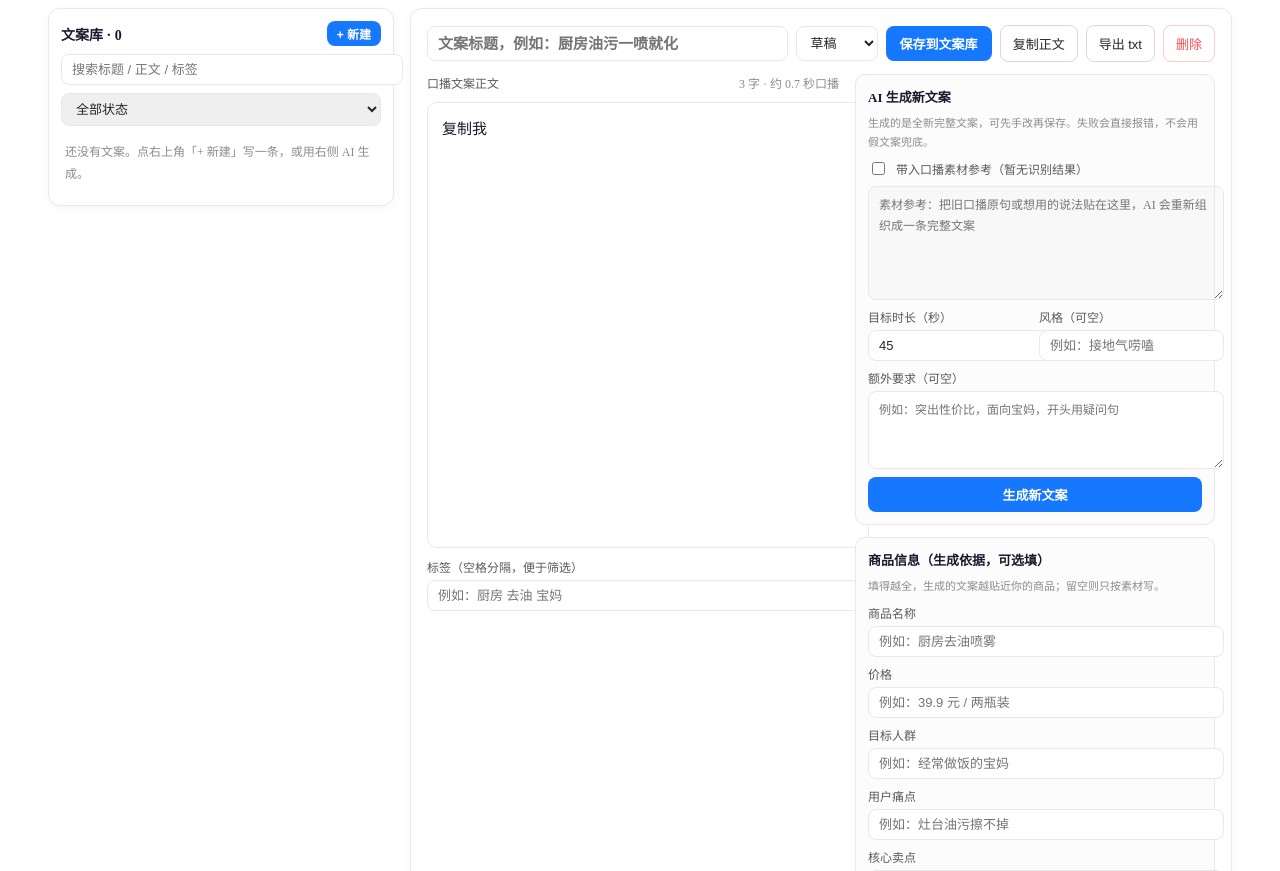
Test case: CopywritingPanel › copies the approved script to the clipboard
What coordinates should you click on to do the following:
click the button "复制正文"
I would click on:
 (1039, 44)
Its box is [1000,25,1078,62].
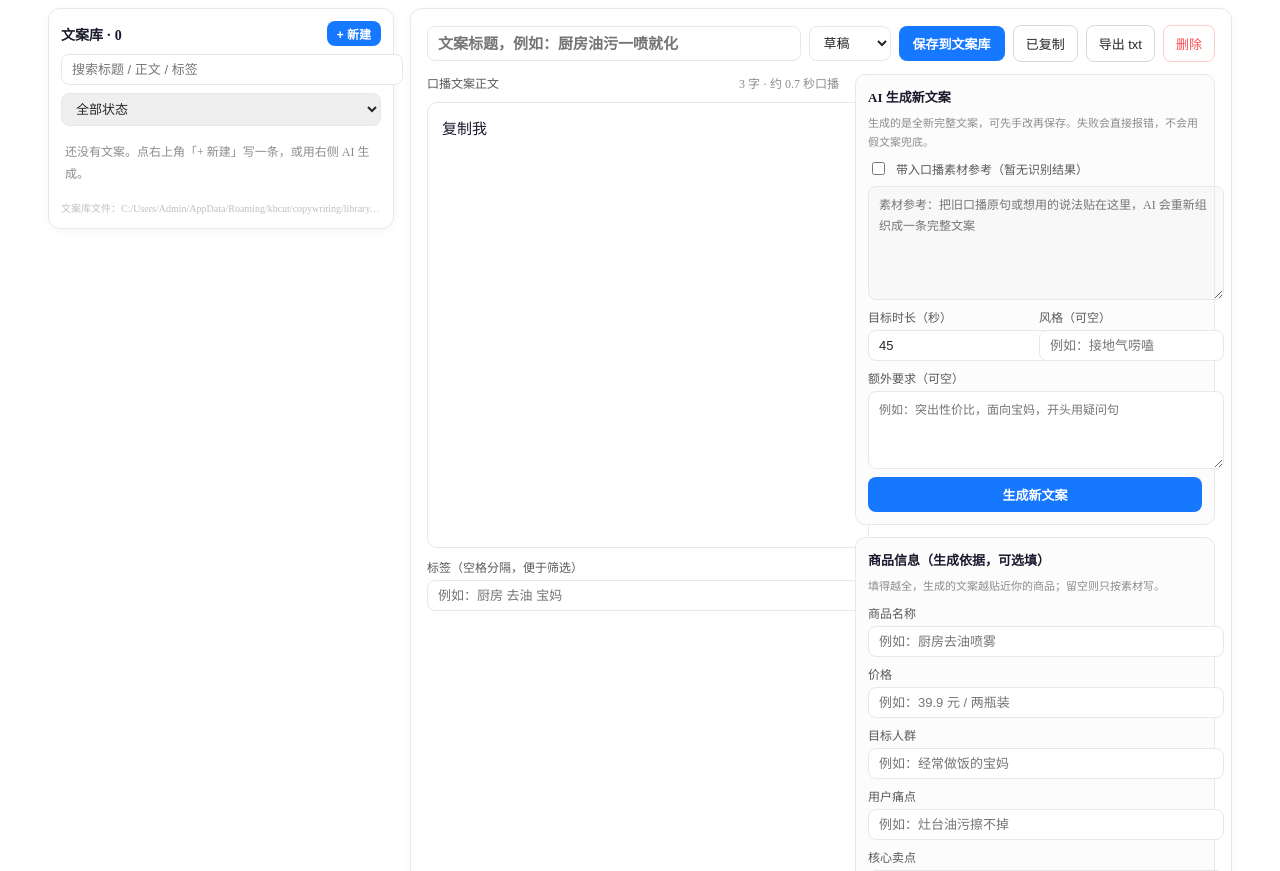
Check: the button "已复制" is shown, box [1013,25,1078,62]
